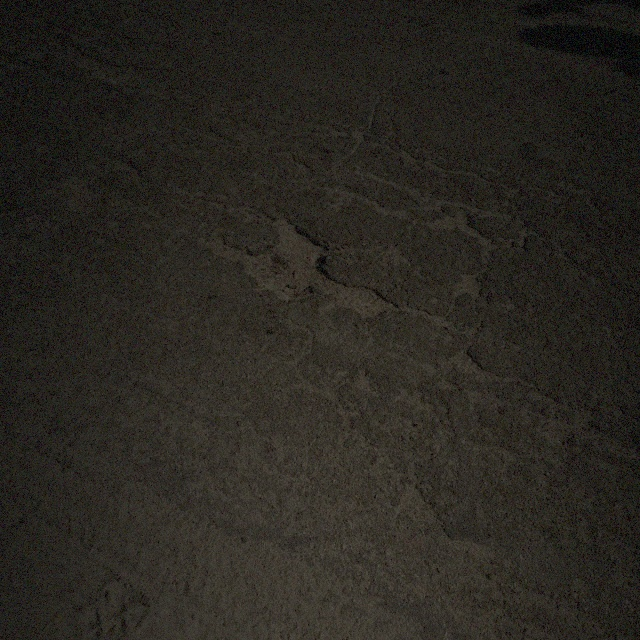pothole: (202, 213, 394, 321)
